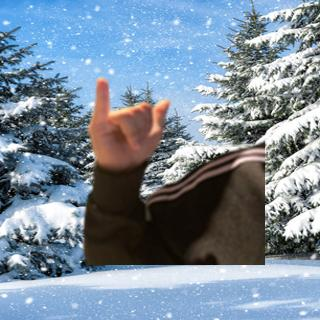HAVE: (82, 77, 176, 173)
